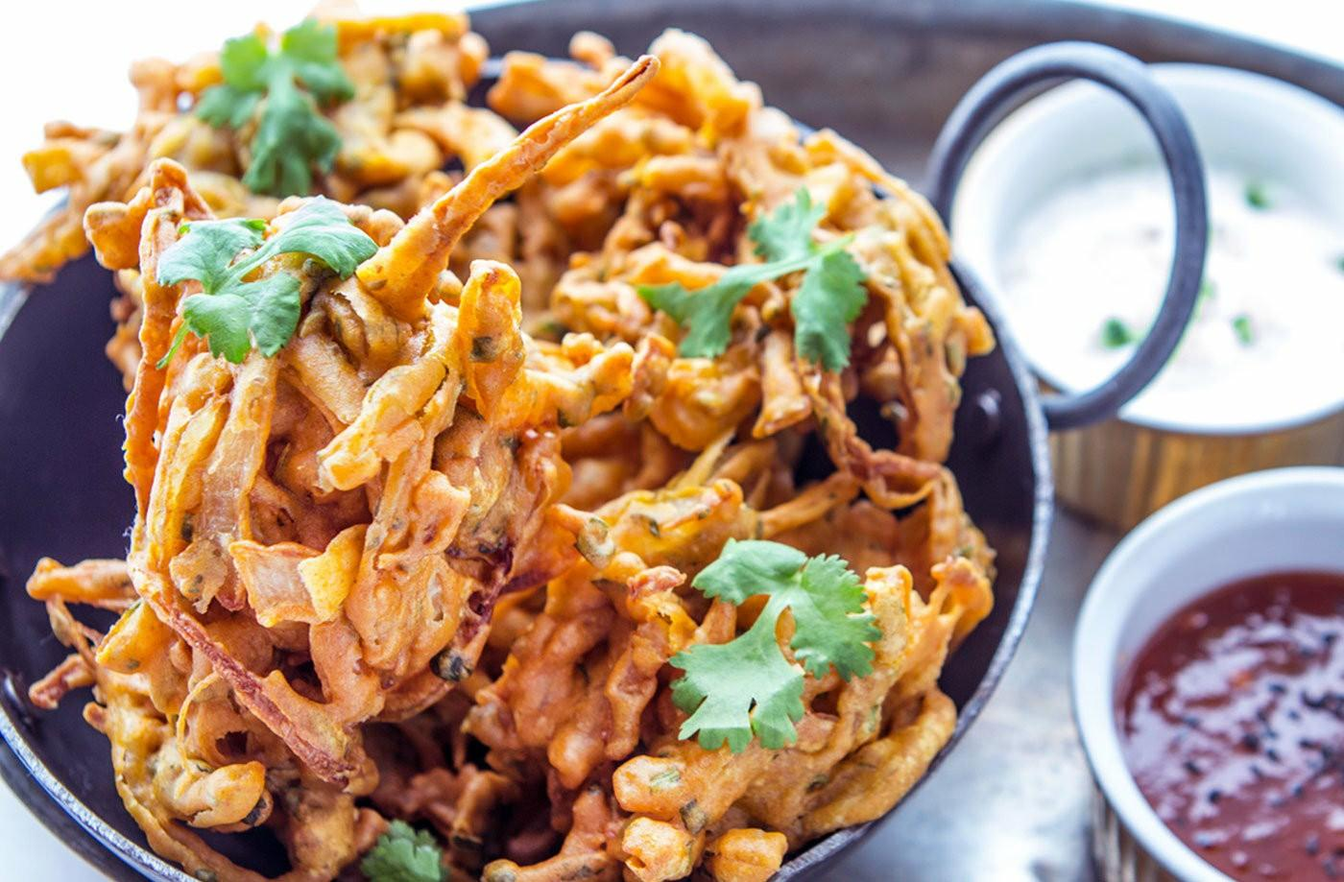OnionPakoda: (3, 0, 994, 882)
